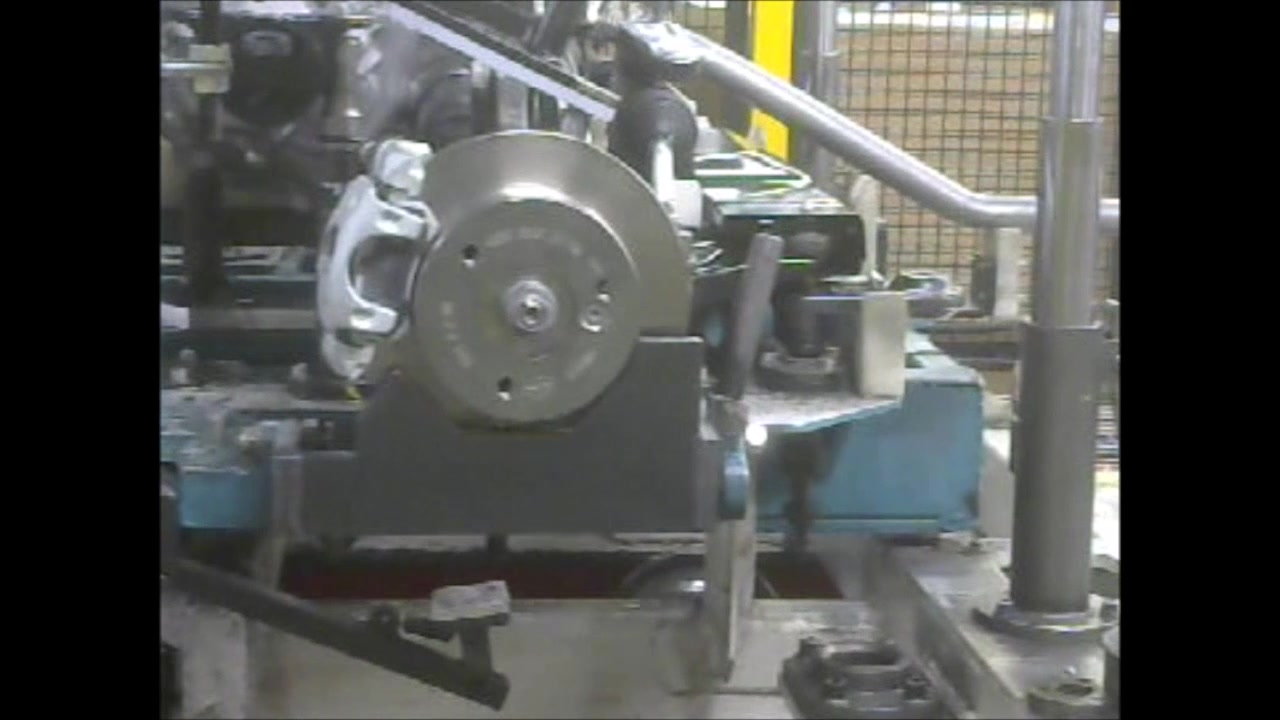DD1: (438, 128, 691, 437)
P1: (311, 136, 440, 382)
